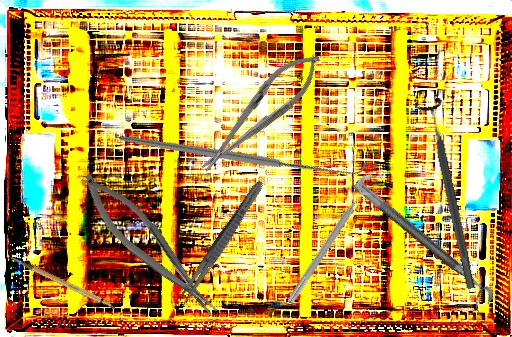Dressing Forceps: (173, 177, 268, 311)
Fixation Ring: (342, 178, 497, 315), (412, 96, 487, 293), (282, 170, 386, 312)
Hook Surgical: (117, 31, 368, 273)
Needle Holder: (72, 162, 225, 330), (189, 42, 331, 183)
Scalpel Handle: (10, 240, 118, 323)
